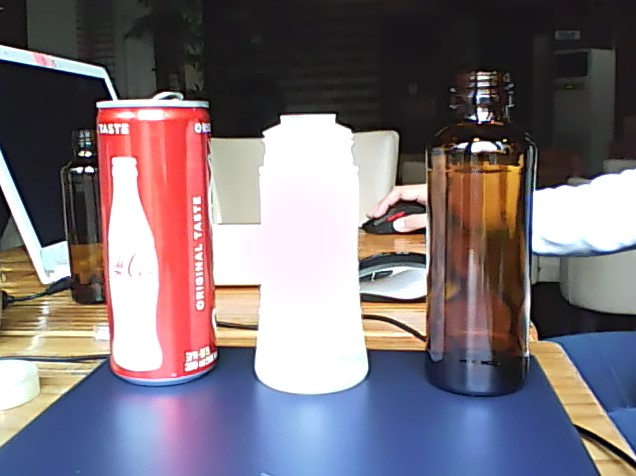Can: (90, 90, 226, 385)
Glass: (424, 67, 540, 401)
Plastic: (245, 107, 372, 399)
